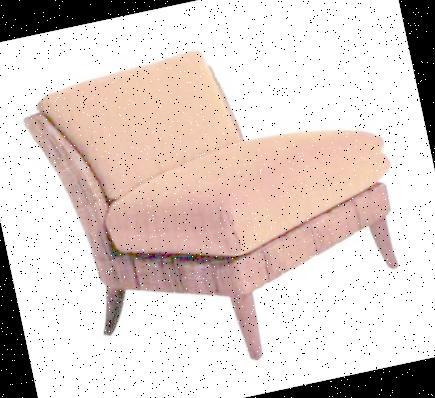Silla: (26, 21, 419, 393)
